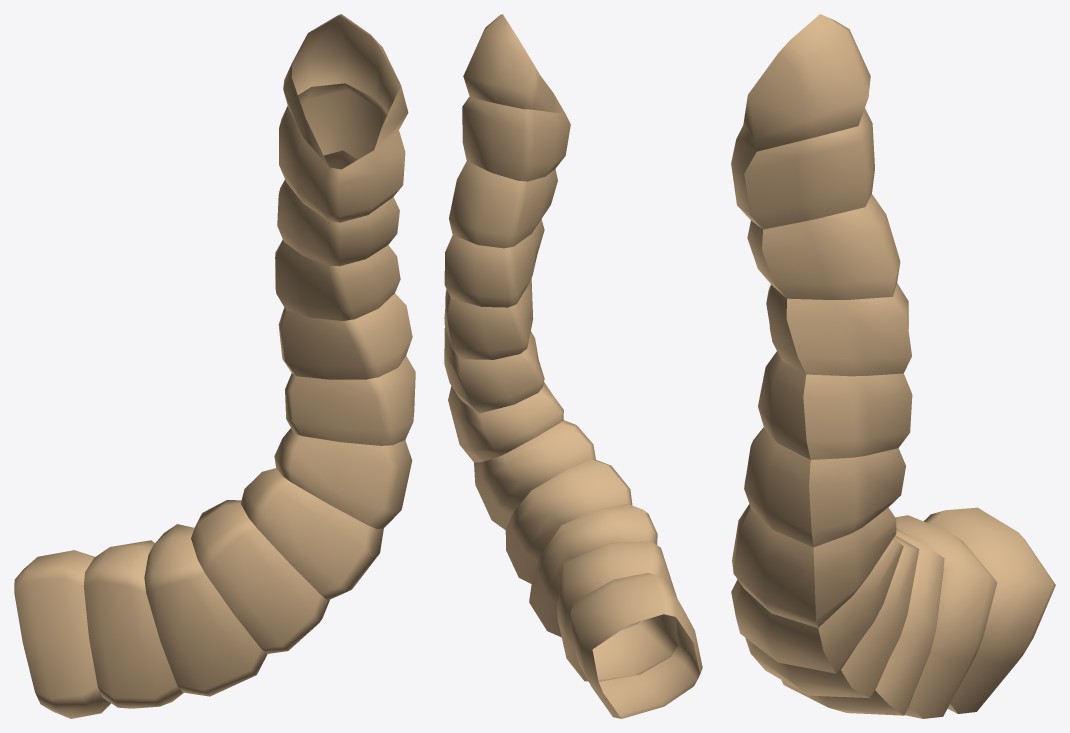
Rendered from colon_descendente.glb.
The picture shows the model from 3 angles, left to right: view 1: azimuth 30°, elevation 25°; view 2: azimuth 150°, elevation 25°; view 3: azimuth 270°, elevation 25°; orthographic projection. The views are drawn at different scales.
Parts seen in each view (by area): view 1: colon_descendente; view 2: colon_descendente; view 3: colon_descendente.
Part boxes in pixels (x1,y1,x2,y2): colon_descendente: (14, 14, 415, 718); colon_descendente: (444, 14, 702, 718); colon_descendente: (731, 14, 1055, 718).
Size of the model in its own units: 0.1363 by 0.2683 by 0.098.
